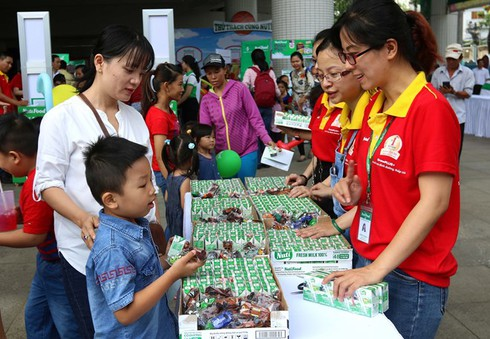person: (337, 1, 468, 329), (34, 20, 168, 278), (77, 132, 192, 337), (2, 110, 89, 339), (197, 53, 275, 190), (314, 32, 369, 214), (143, 60, 191, 184), (227, 40, 280, 143), (431, 37, 475, 118), (160, 134, 197, 228), (284, 48, 320, 122), (183, 120, 220, 186), (177, 50, 208, 113), (1, 49, 16, 115), (240, 204, 261, 238), (272, 75, 290, 113), (69, 60, 90, 89), (43, 51, 62, 69), (49, 69, 66, 89)
